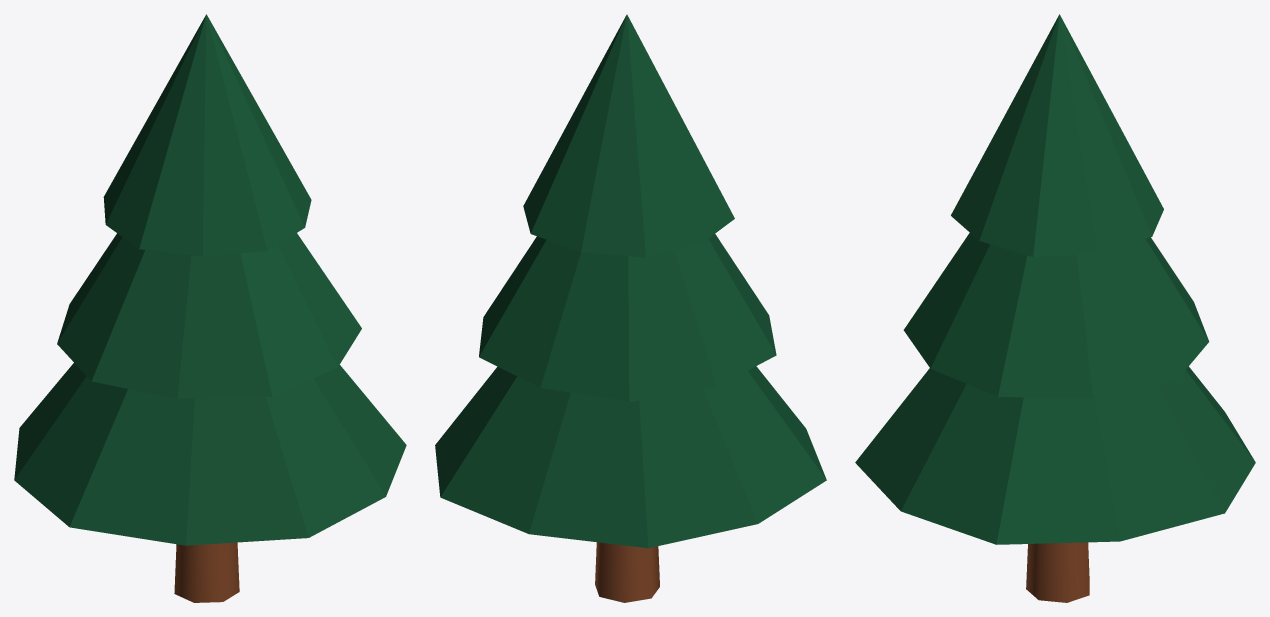
File: tree_pine_a.glb
3 renders of one model, left to right at view 1: azimuth 30°, elevation 25°; view 2: azimuth 150°, elevation 25°; view 3: azimuth 270°, elevation 25°, orthographic.
Visible parts, largest first — view 1: Three tier faceted pine crown, Seven sided tapered trunk; view 2: Three tier faceted pine crown, Seven sided tapered trunk; view 3: Three tier faceted pine crown, Seven sided tapered trunk.
Part boxes in pixels (left/top/right/bottom): Three tier faceted pine crown: left=14, top=14, right=406, bottom=545; Seven sided tapered trunk: left=174, top=542, right=239, bottom=602; Three tier faceted pine crown: left=435, top=14, right=826, bottom=548; Seven sided tapered trunk: left=595, top=542, right=659, bottom=602; Three tier faceted pine crown: left=855, top=14, right=1255, bottom=544; Seven sided tapered trunk: left=1026, top=542, right=1089, bottom=602.
Bounding box in the file's own units: 1.1 × 1.8 × 1.14.
